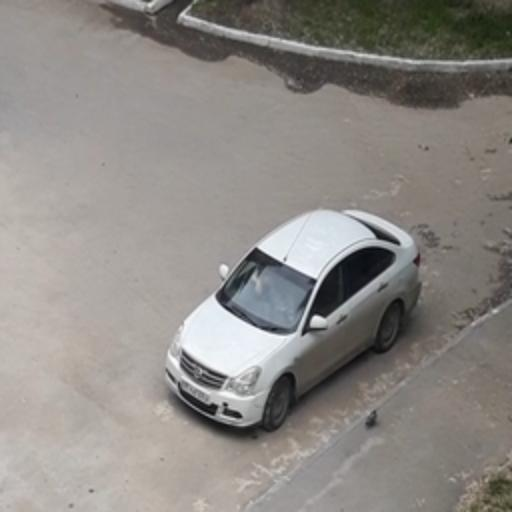car: (156, 198, 426, 432)
